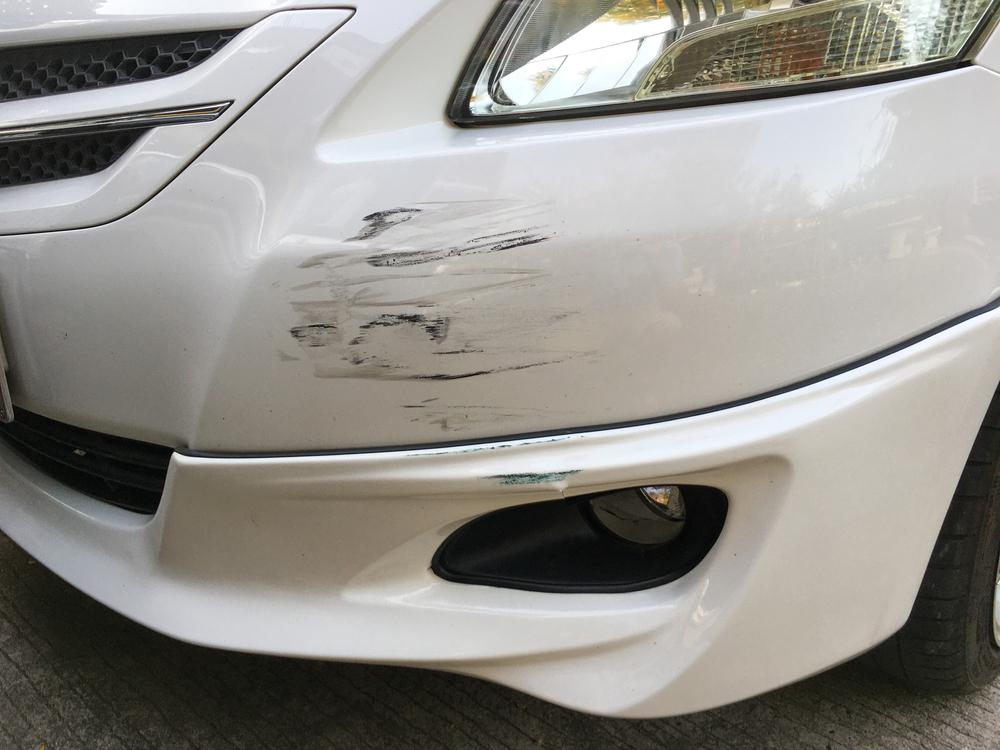scratch: (267, 190, 604, 445), (474, 466, 593, 491)
